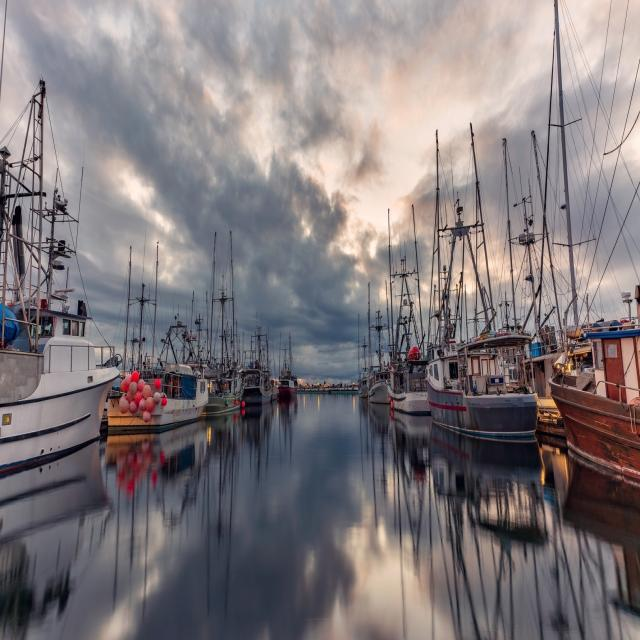fishing boat: (0, 96, 129, 469), (423, 210, 539, 441), (115, 348, 219, 446)
